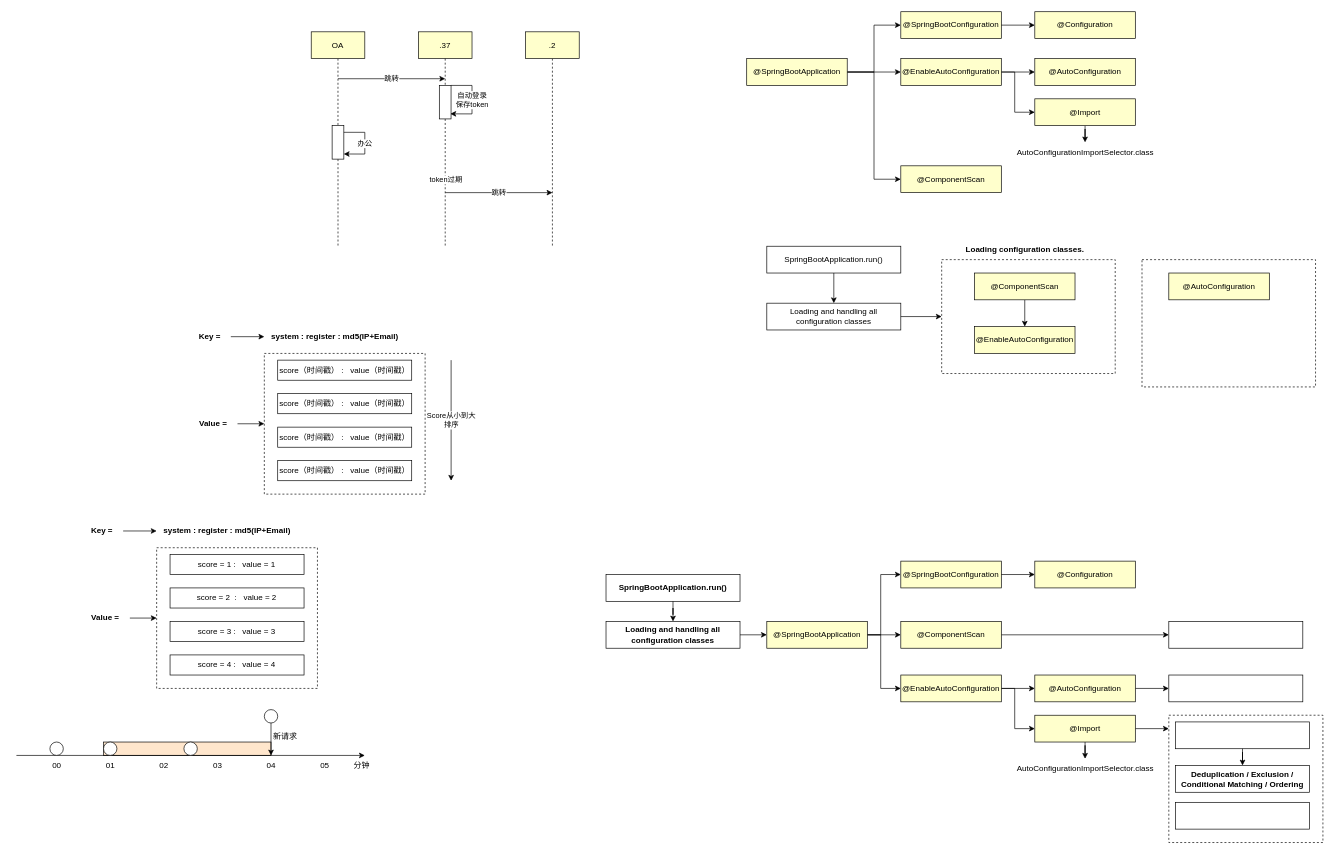
The diagram is 1335 pixels wide and 854 high, and some of its shapes have lost their labels. Here are the shapes that lost their labels. From the top down, the centre of each, then its label:
pixel 1235 634: Loading components under the specific packages.
pixel 1235 688: Loading components under the current package path.
pixel 1242 735: Read META-INF/spring.factories
pixel 1242 815: Register the components.
